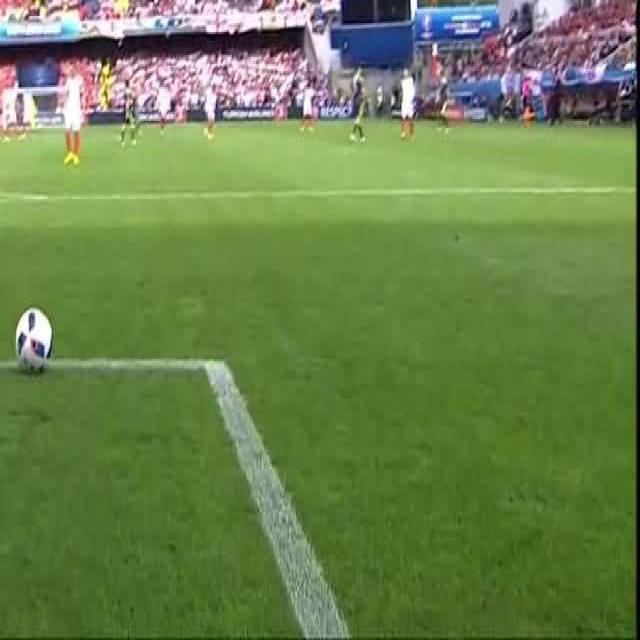ball: (16, 309, 52, 371)
player-white: (64, 67, 85, 165), (350, 63, 368, 143), (399, 64, 417, 140), (121, 80, 137, 146), (438, 70, 450, 136), (157, 80, 170, 136), (205, 82, 217, 142), (302, 82, 314, 134)
